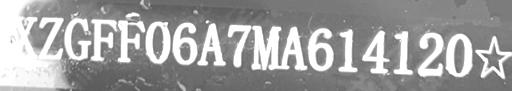letter: (195, 20, 227, 69), (360, 26, 392, 75), (250, 23, 282, 70), (414, 30, 446, 77), (116, 17, 146, 66), (62, 15, 92, 62), (89, 16, 119, 63), (278, 24, 308, 71), (444, 31, 474, 78), (170, 20, 200, 65), (305, 26, 335, 71), (144, 19, 172, 66), (37, 13, 63, 62), (226, 21, 252, 70), (390, 26, 414, 77), (12, 11, 38, 58), (335, 26, 359, 73)
